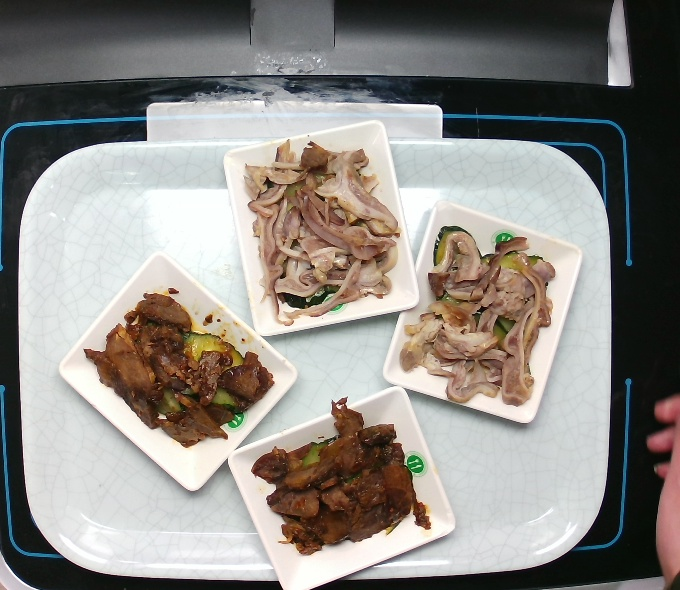wcq-JiangNiuRou: (76, 261, 279, 452), (249, 389, 435, 560)
wcq-ZhuDu: (393, 212, 562, 413), (247, 127, 401, 320)
